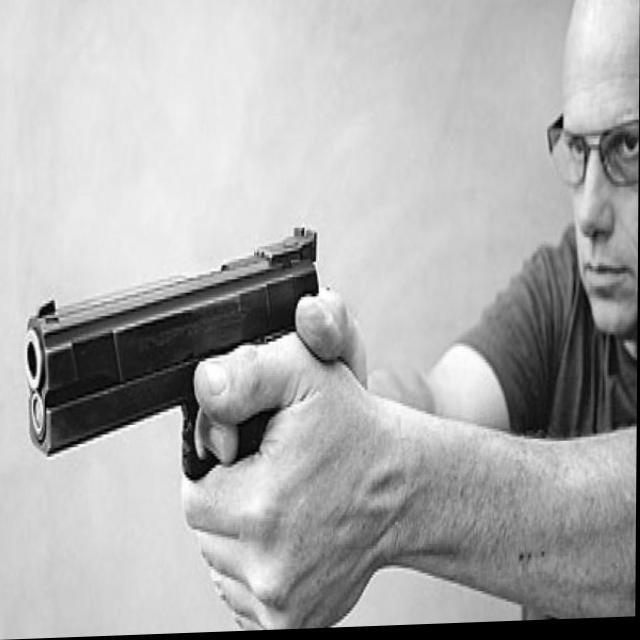weapon: (24, 225, 321, 488)
